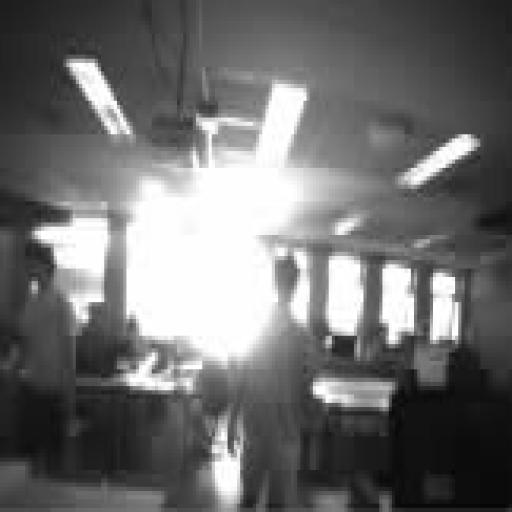human: (228, 256, 319, 507), (19, 240, 75, 470)
